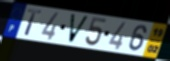4: (39, 11, 60, 41), (107, 21, 127, 51)
5: (85, 17, 108, 48)
6: (128, 24, 148, 53)
T: (23, 8, 43, 37)
V: (68, 13, 90, 45)
